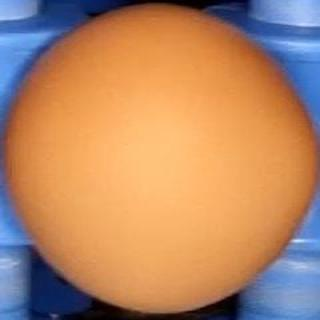Telur: (3, 2, 319, 317)
